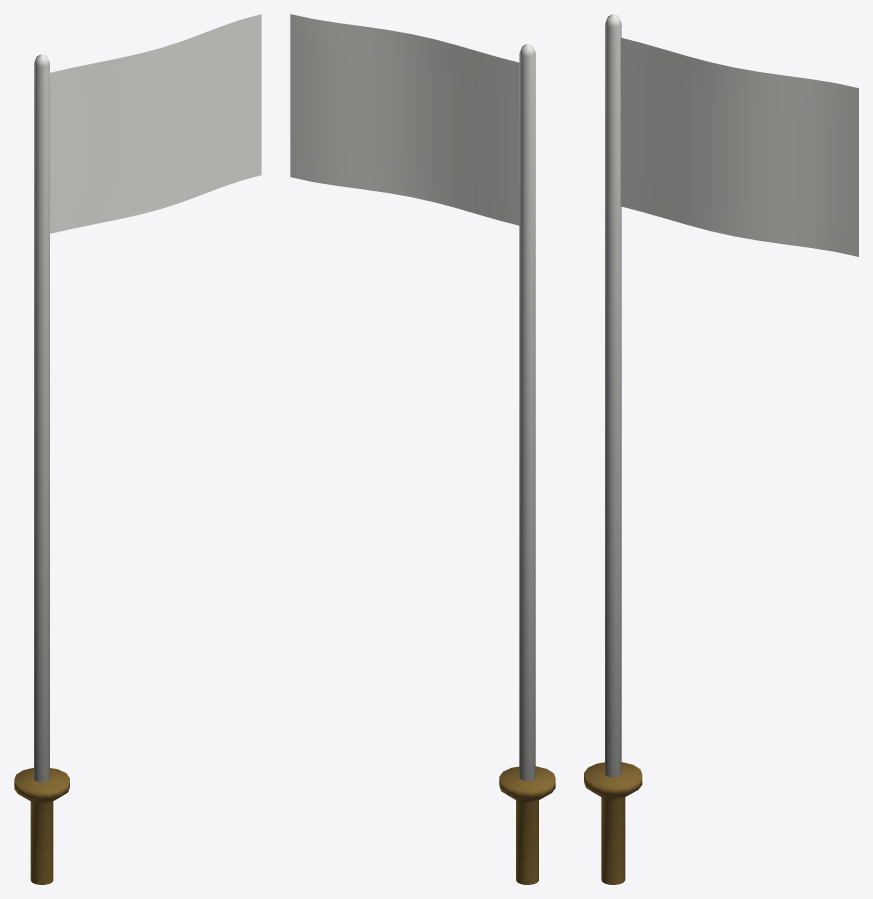
File: practice_flag.glb
3 renders of one model, left to right at view 1: azimuth 30°, elevation 25°; view 2: azimuth 150°, elevation 25°; view 3: azimuth 330°, elevation 25°, orthographic. The views are drawn at different scales.
Parts seen in each view (by area): view 1: practice_flag; view 2: practice_flag; view 3: practice_flag.
Boxes of the visible parts, left/top/right/bottom form: practice_flag: left=14, top=14, right=261, bottom=884; practice_flag: left=290, top=14, right=555, bottom=884; practice_flag: left=584, top=14, right=858, bottom=884.
Size of the model in its own units: 0.2285 by 0.718 by 0.0429.
